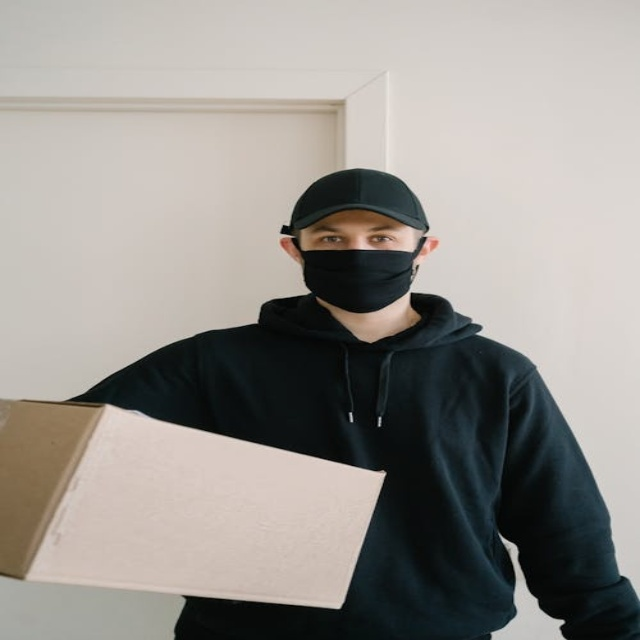Mascara: (294, 239, 424, 310)
Sin_gafas: (307, 224, 408, 245)
